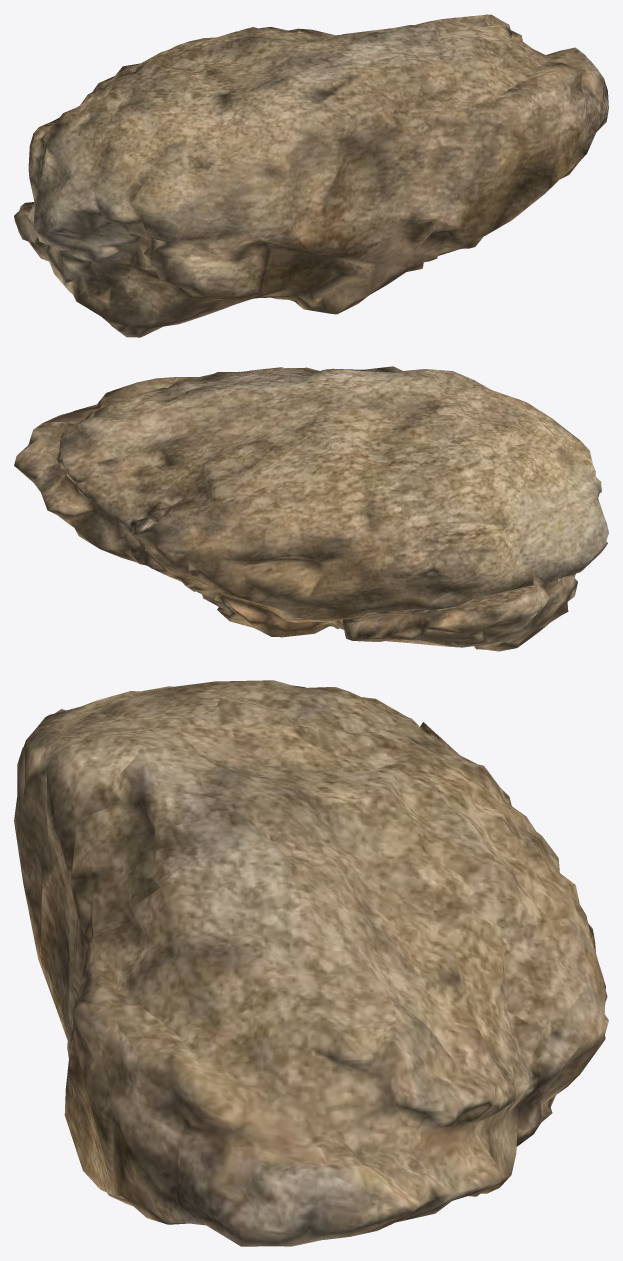
File: rock_small.glb
3 views of the same model, one above another, from view 1: azimuth 30°, elevation 25°; view 2: azimuth 150°, elevation 25°; view 3: azimuth 270°, elevation 25° (orthographic). The views are drawn at different scales.
Parts seen in each view (by area): view 1: namaqualand_boulder_05; view 2: namaqualand_boulder_05; view 3: namaqualand_boulder_05.
Part boxes in pixels (bbox=[...]): namaqualand_boulder_05: bbox=[14, 14, 608, 337]; namaqualand_boulder_05: bbox=[14, 366, 608, 651]; namaqualand_boulder_05: bbox=[14, 680, 608, 1246].
Size of the model in its own units: 1.36 by 0.5359 by 0.748.
1 material, 1 textured.
